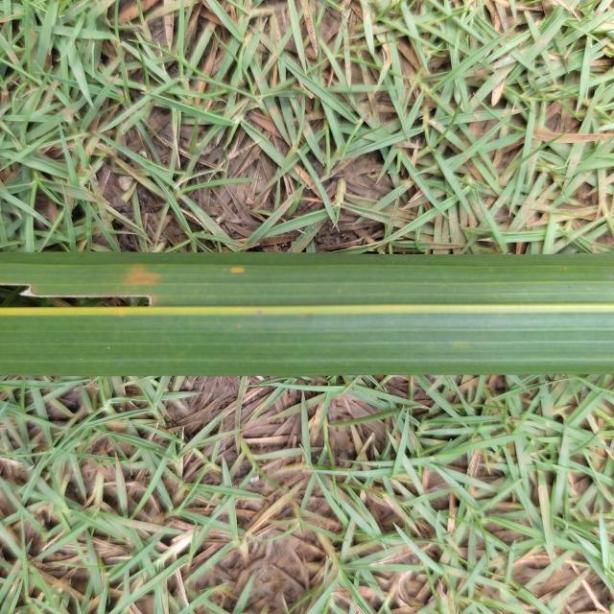Kalium: (0, 246, 614, 379)
